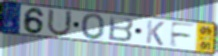6: (22, 7, 47, 35)
B: (107, 15, 135, 43)
F: (169, 21, 198, 49)
K: (145, 19, 166, 47)
O: (80, 12, 107, 41)
U: (46, 8, 74, 38)
